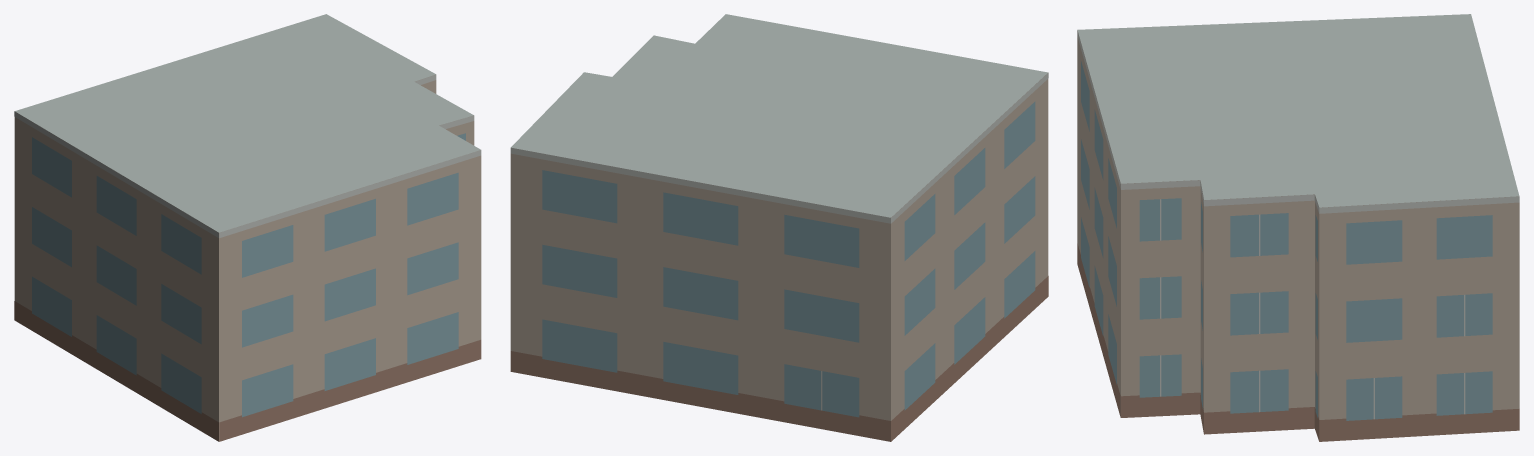
Rendered from survey-upis-32877039.glb.
3 renders of one model, left to right at view 1: azimuth 30°, elevation 25°; view 2: azimuth 150°, elevation 25°; view 3: azimuth 270°, elevation 25°, orthographic. The views are drawn at different scales.
Parts seen in each view (by area): view 1: survey-upis-32877039.tmp; view 2: survey-upis-32877039.tmp; view 3: survey-upis-32877039.tmp.
Boxes of the visible parts, <box> form: survey-upis-32877039.tmp: <box>14,14,481,441</box>; survey-upis-32877039.tmp: <box>510,14,1048,441</box>; survey-upis-32877039.tmp: <box>1077,14,1519,441</box>.
Size of the model in its own units: 16.22 by 9.15 by 15.66.
